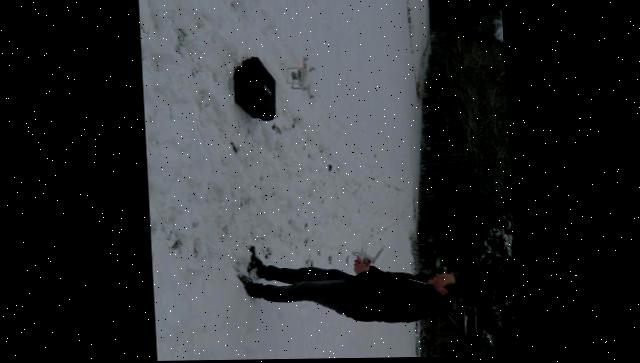drone: (284, 55, 318, 101)
